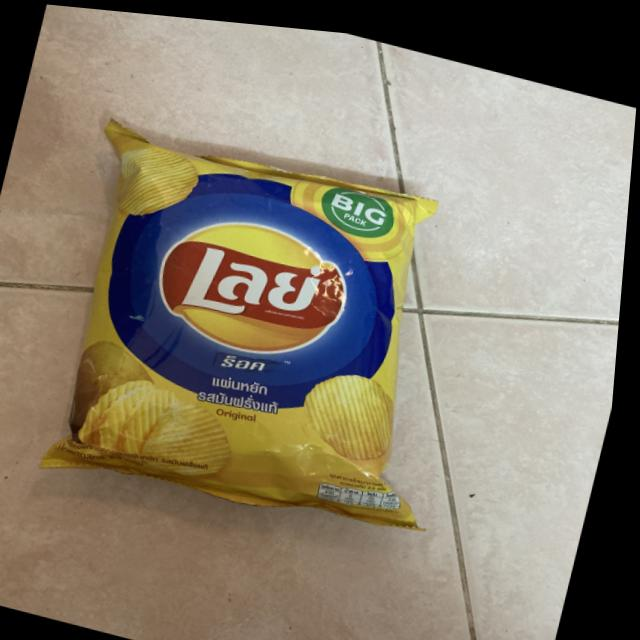LayYellow: (9, 104, 501, 533)
